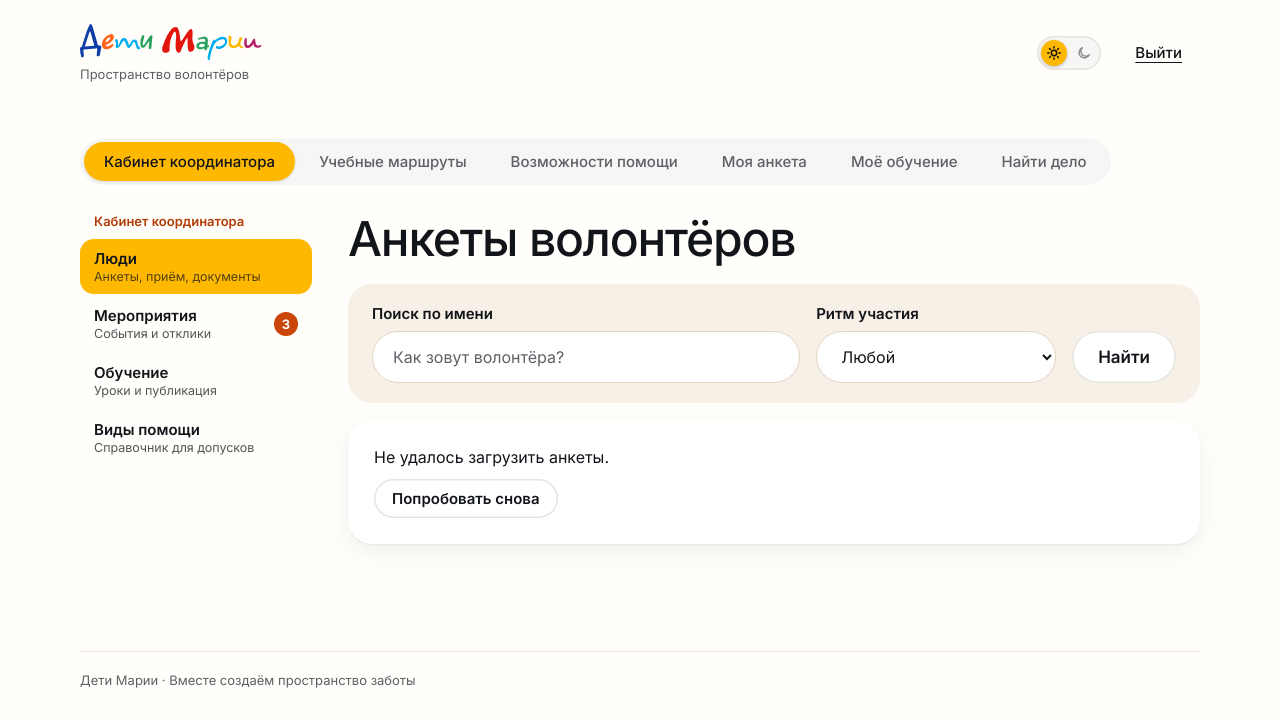
staff login and coordinator workspace › distinguishes a failed list load from an empty list and supports retry
Check: the message shows "Не удалось загрузить", box [374,447,609,467]
Click the button "Попробовать снова" at (466, 499), box [374,479,558,518]
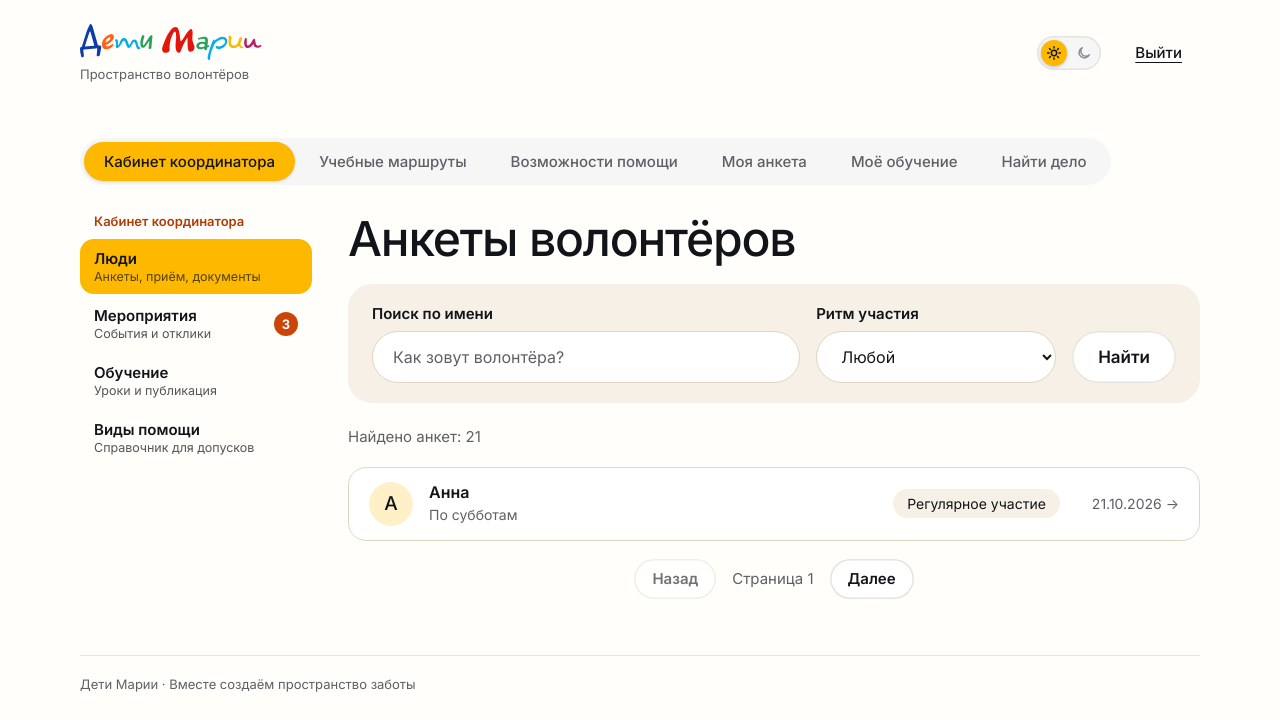
Check: the button "А Анна По субботам Регулярное участие 21.10.2026 →" is shown, box [348,467,1200,541]
